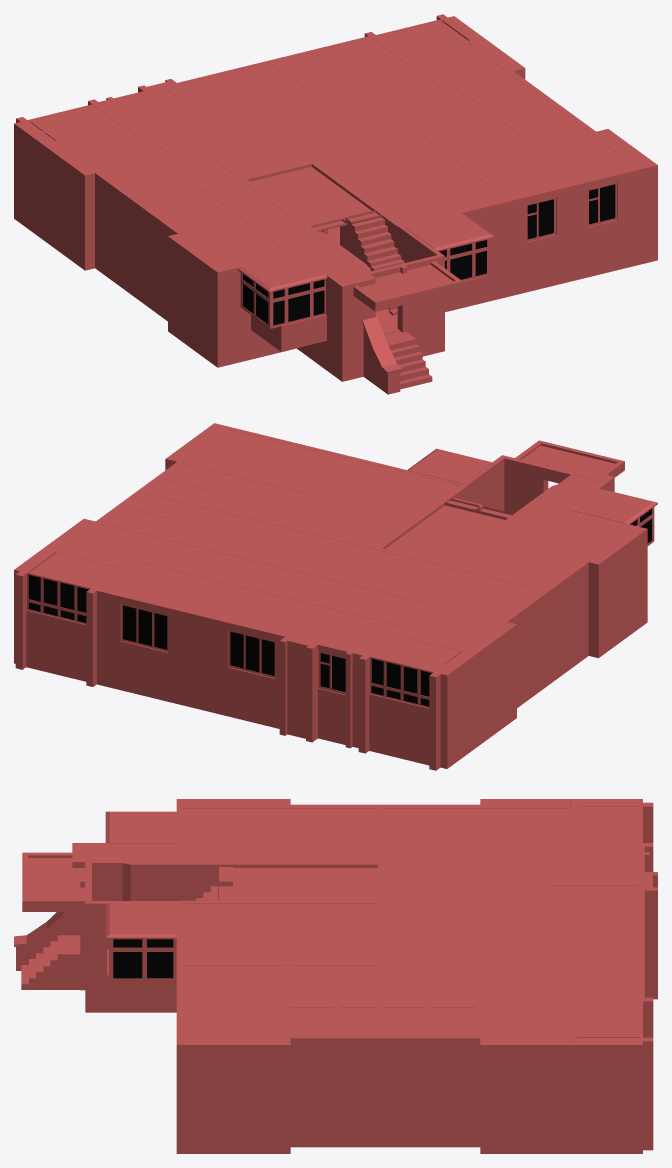
Rendered from SM_house_section_15.fbx.
The picture shows the model from 3 angles, top to bottom: view 1: azimuth 30°, elevation 25°; view 2: azimuth 150°, elevation 25°; view 3: azimuth 270°, elevation 25°; orthographic projection. The views are drawn at different scales.
Parts seen in each view (by area): view 1: Symmetry_1; view 2: Symmetry_1; view 3: Symmetry_1.
Boxes of the visible parts, x1,y1,x2,y2 form: Symmetry_1: (14, 14, 657, 394); Symmetry_1: (14, 423, 657, 770); Symmetry_1: (14, 799, 657, 1153).
Bounding box in the file's own units: 1815 × 376 × 2009.
